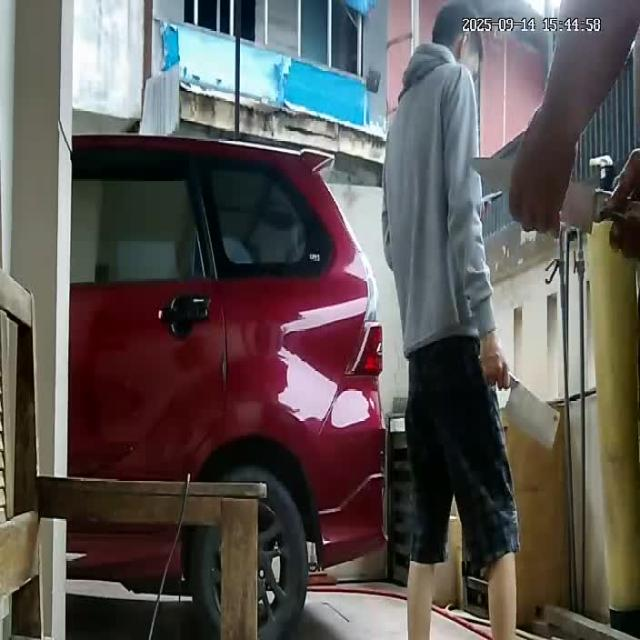senjata_tajam: (461, 151, 609, 236), (502, 373, 562, 453)
